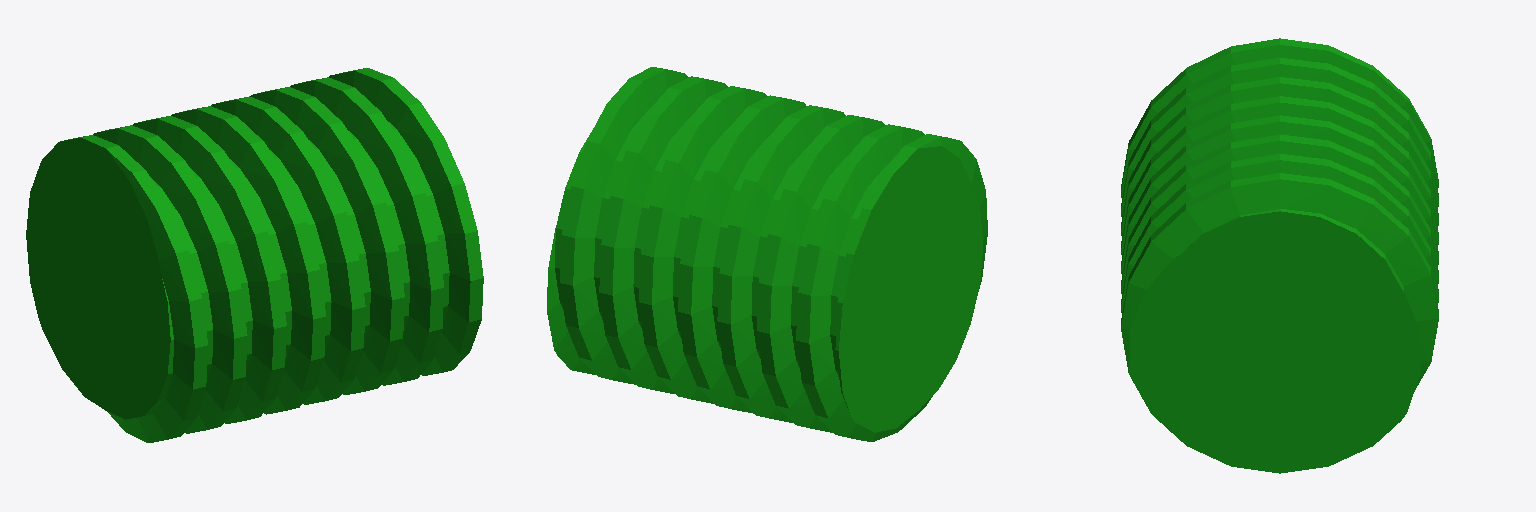
File: worm.obj
The picture shows the model from 3 angles: view 1: azimuth 30°, elevation 25°; view 2: azimuth 150°, elevation 25°; view 3: azimuth 270°, elevation 25°; orthographic projection.
Visible parts, largest first — view 1: Worm_Gear; view 2: Worm_Gear; view 3: Worm_Gear.
Boxes of the visible parts, box(x1,y1,x2,y2) form: Worm_Gear: box(26, 68, 483, 442); Worm_Gear: box(547, 67, 987, 441); Worm_Gear: box(1121, 38, 1438, 473).
Size of the model in its own units: 0.012 by 0.011 by 0.011.